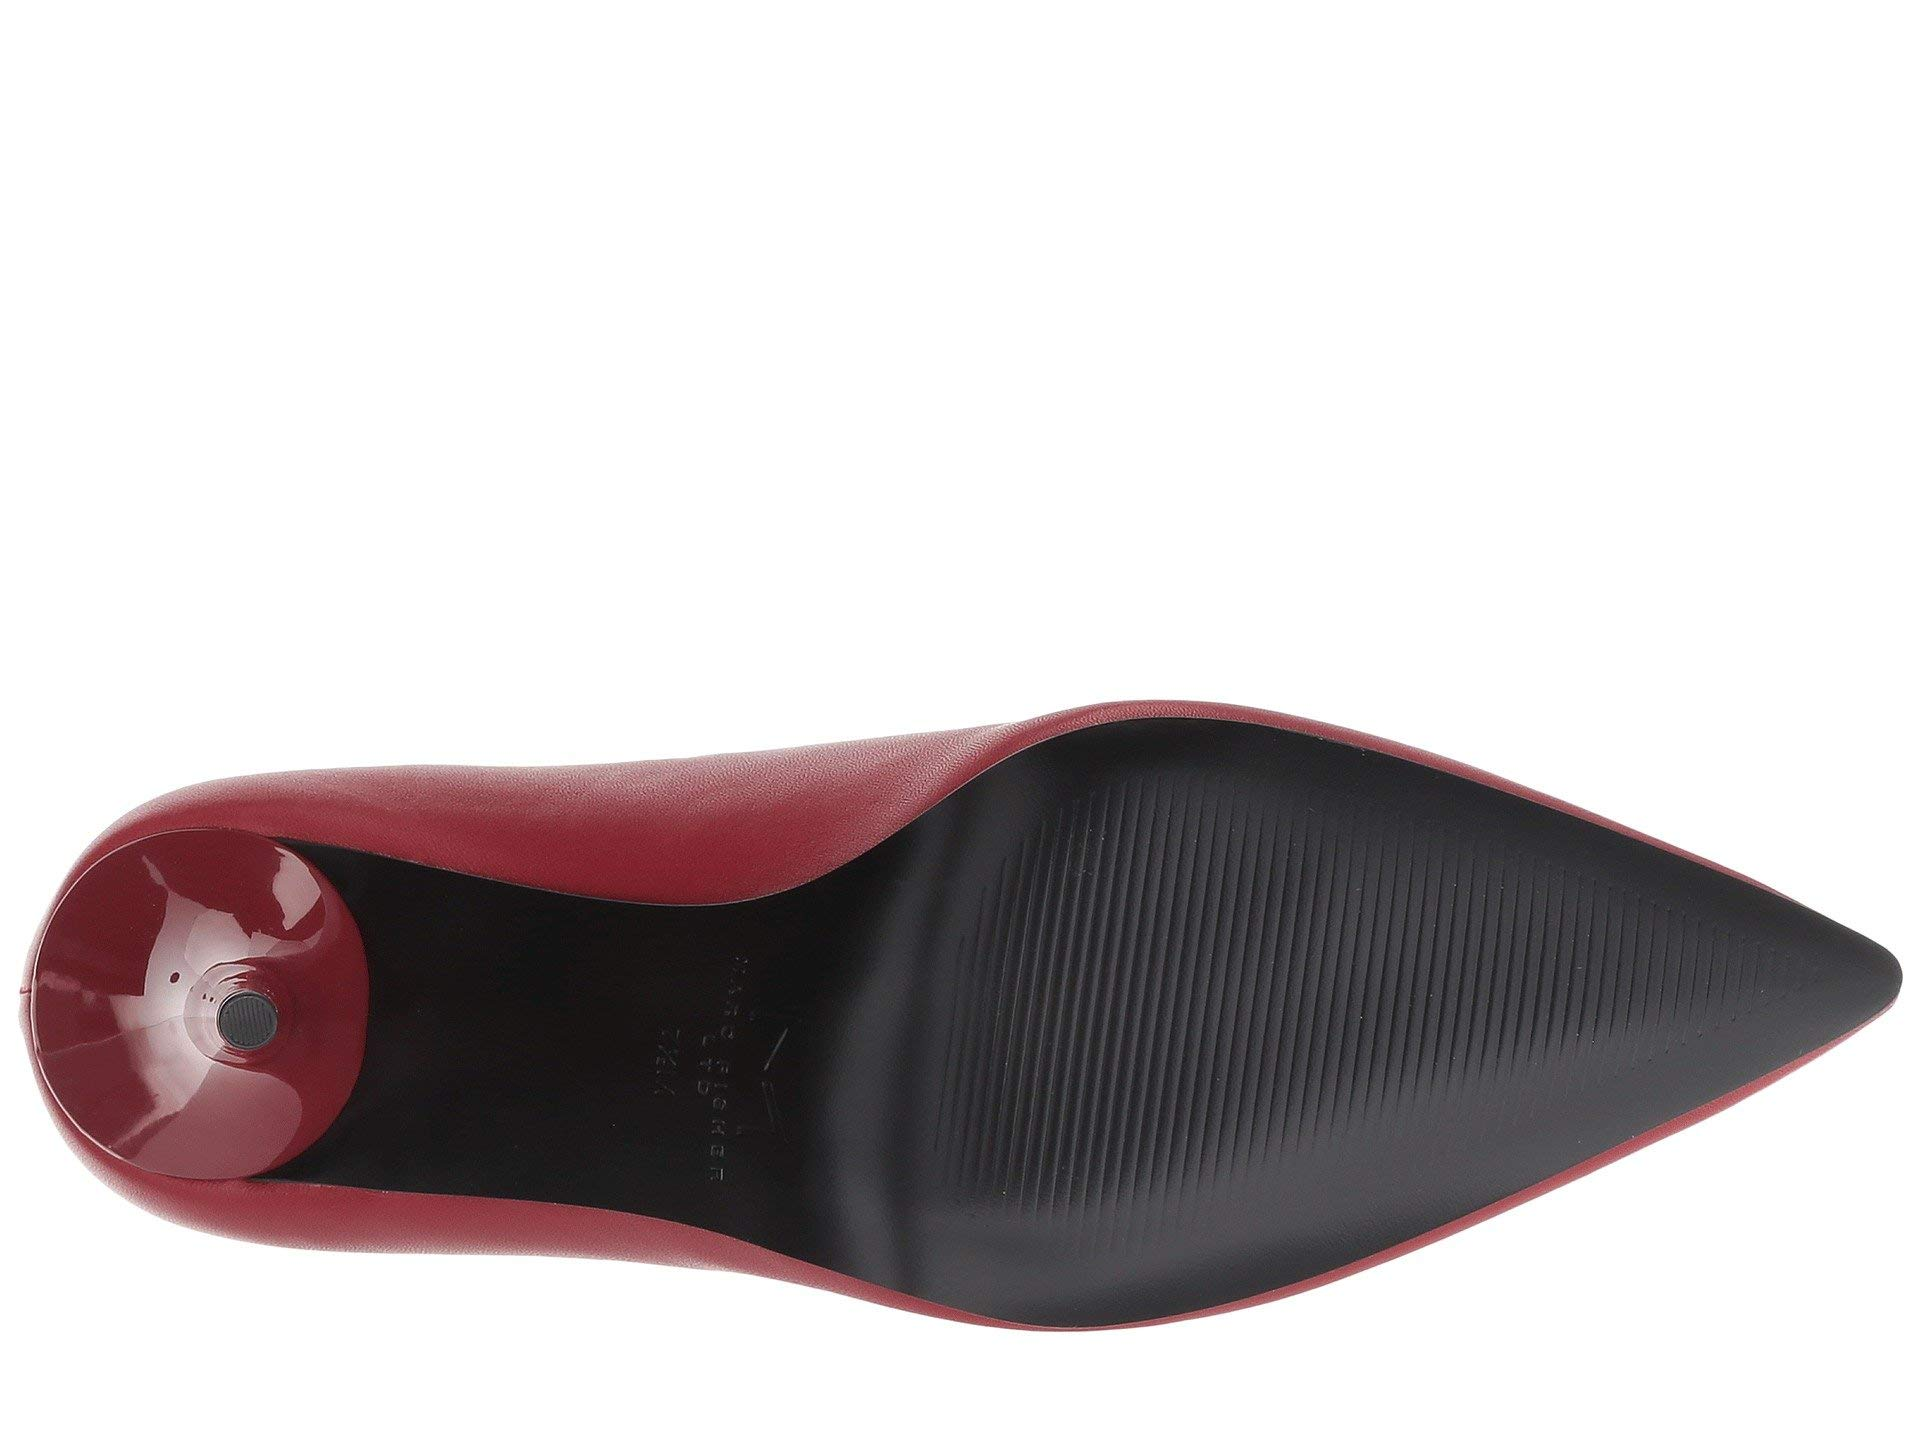line: (978, 841, 1533, 1174), (1568, 911, 1757, 1027), (224, 1004, 252, 1041)
